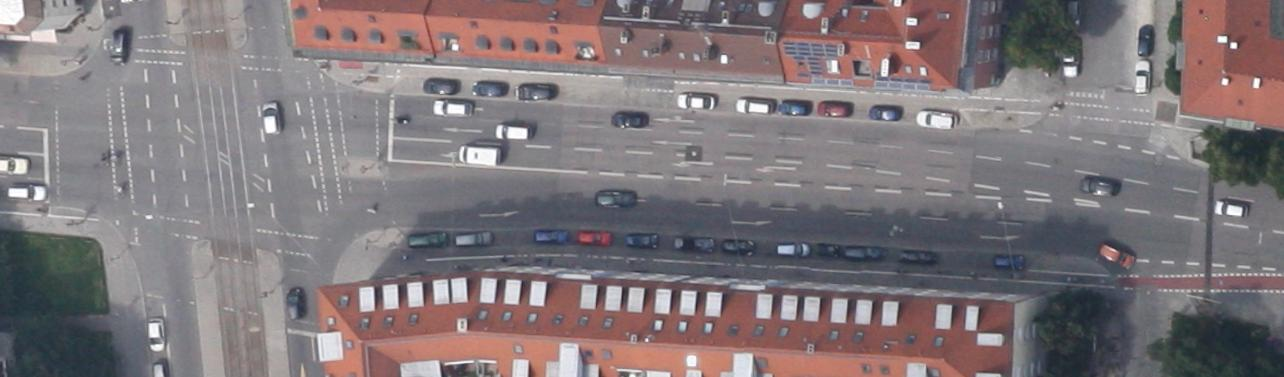car: (1097, 241, 1136, 271), (1080, 176, 1120, 197), (916, 110, 958, 129), (518, 82, 556, 100), (900, 249, 938, 267), (596, 190, 636, 207), (408, 232, 448, 249), (674, 235, 714, 252), (844, 244, 886, 260), (423, 76, 460, 94), (455, 231, 493, 248), (7, 185, 47, 201), (261, 102, 281, 134), (433, 101, 473, 117), (110, 30, 128, 65), (495, 123, 532, 140), (677, 94, 716, 110), (1063, 38, 1079, 77), (722, 238, 756, 256), (287, 286, 306, 318), (868, 104, 903, 121), (818, 100, 853, 117), (472, 80, 505, 98), (778, 98, 811, 116), (776, 241, 810, 258), (612, 112, 648, 128), (1214, 200, 1246, 218), (736, 98, 774, 113), (1134, 61, 1151, 94), (993, 252, 1024, 270), (148, 317, 164, 351), (626, 232, 658, 249), (534, 229, 569, 244), (1138, 24, 1154, 56), (578, 230, 610, 245), (816, 242, 840, 258)
